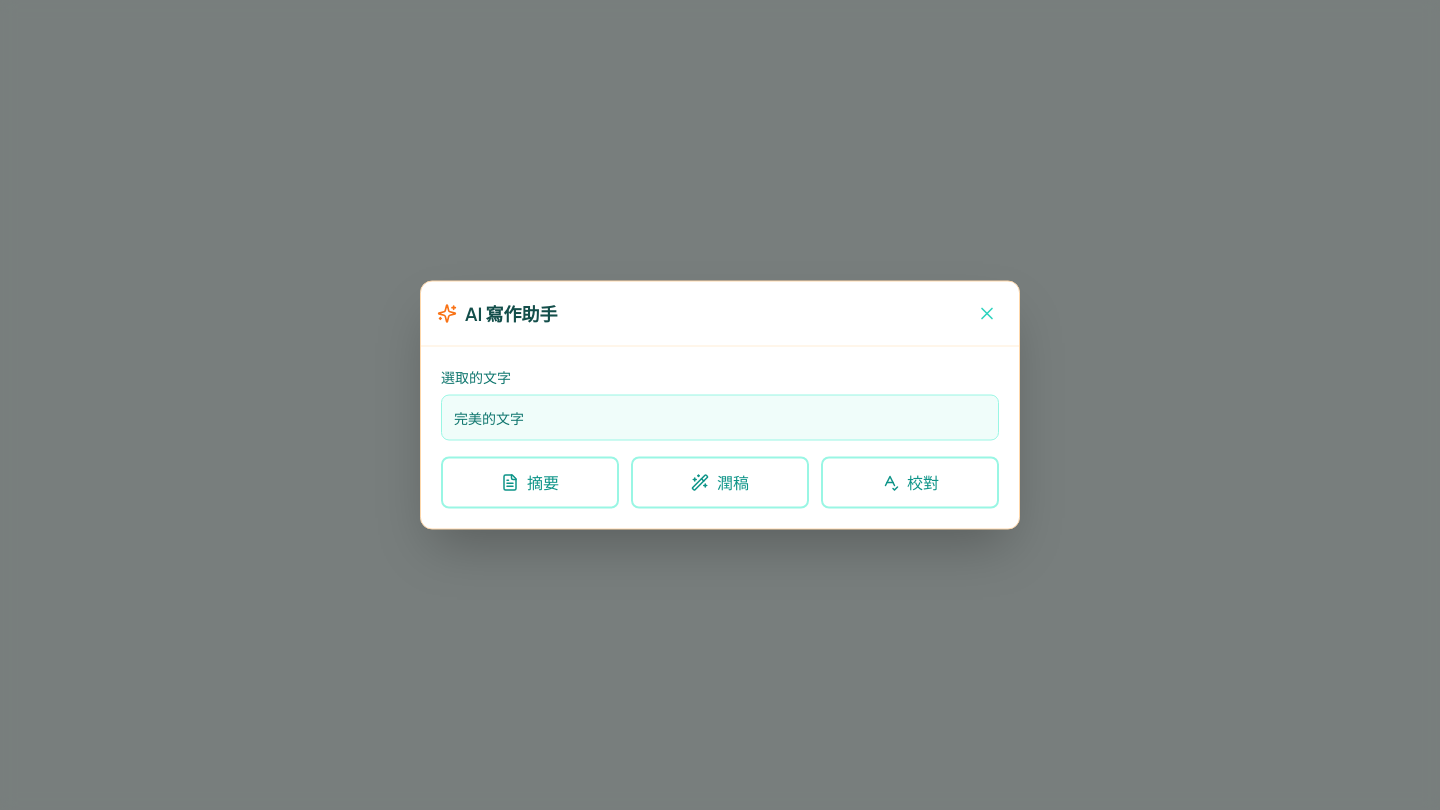
Test: AIDialog › should show no-issues message when proofread finds nothing
Click the button "校對" at (910, 482), box [821,456,999,508]
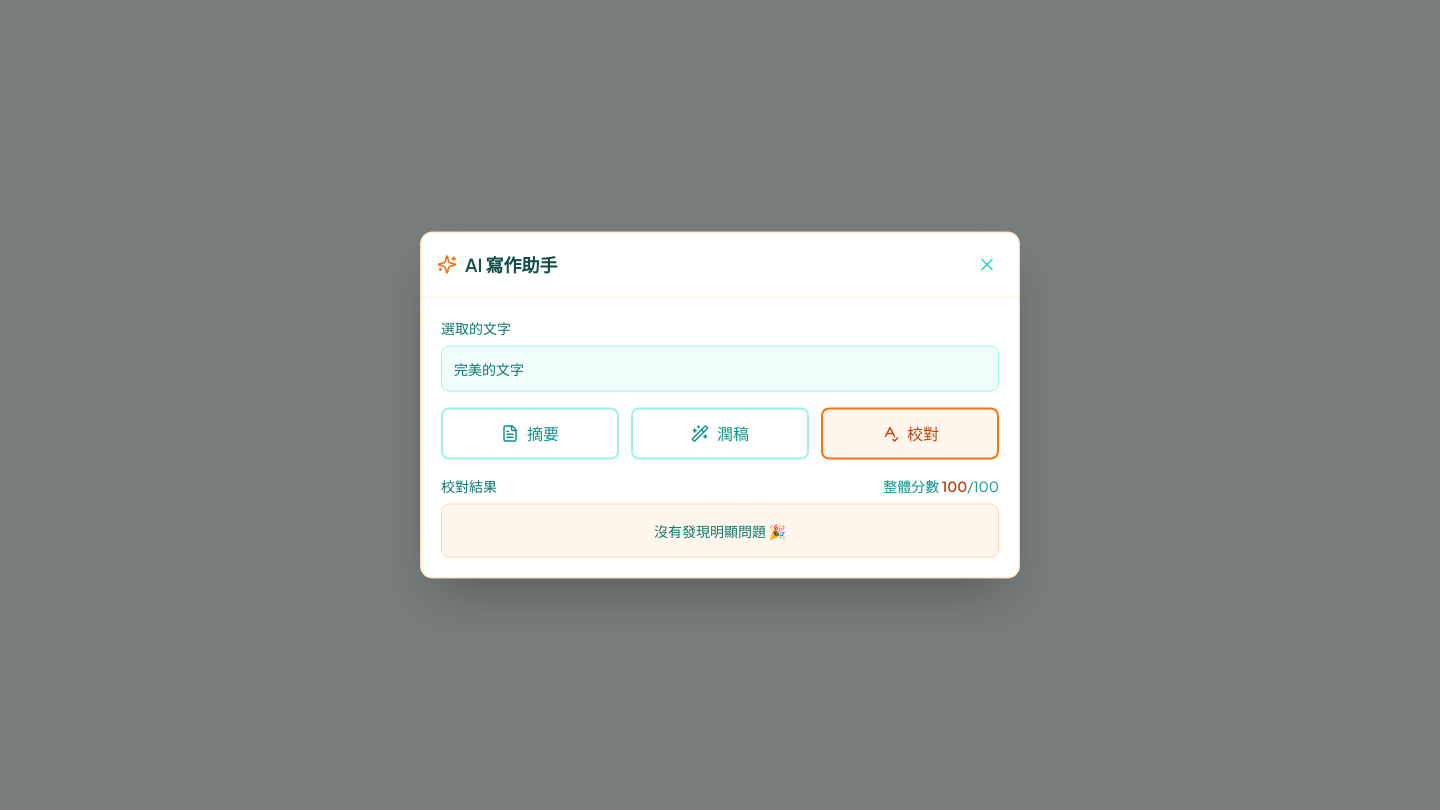
Expected: the text "沒有發現明顯問題 🎉" is shown, [441,504,999,558]
